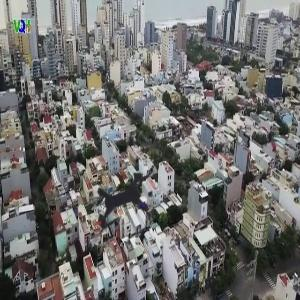drone: (52, 134, 194, 276)
